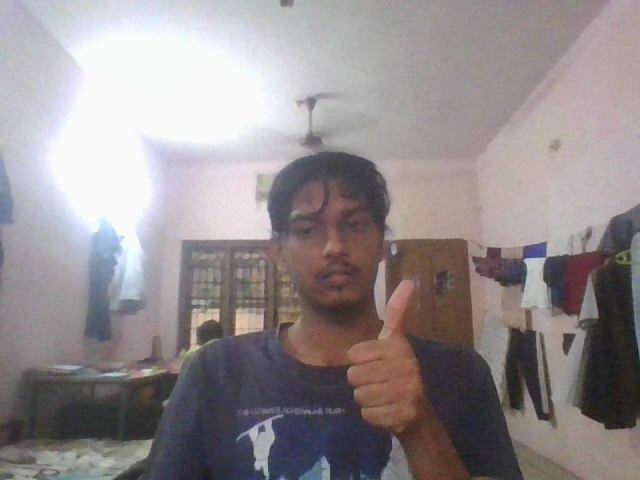thumbsup: (343, 275, 440, 452)
